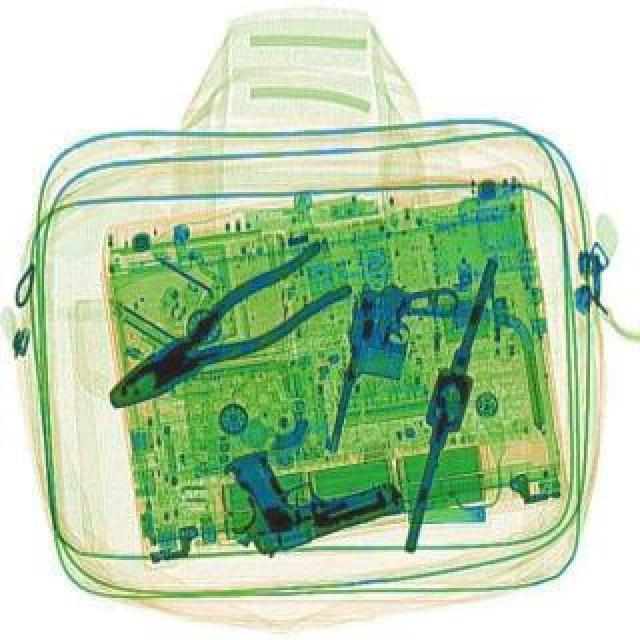gun: (212, 410, 406, 560), (324, 272, 460, 464)
wrench: (88, 234, 356, 432)
